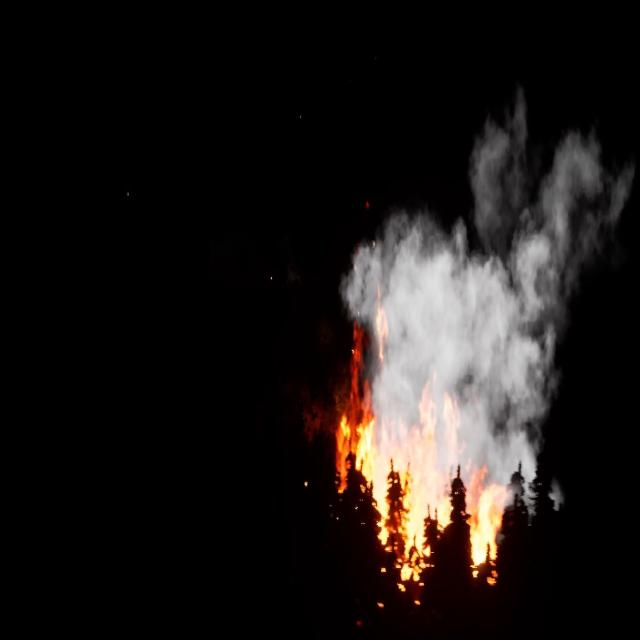fire: (330, 294, 510, 588)
smoke: (343, 87, 640, 510)
